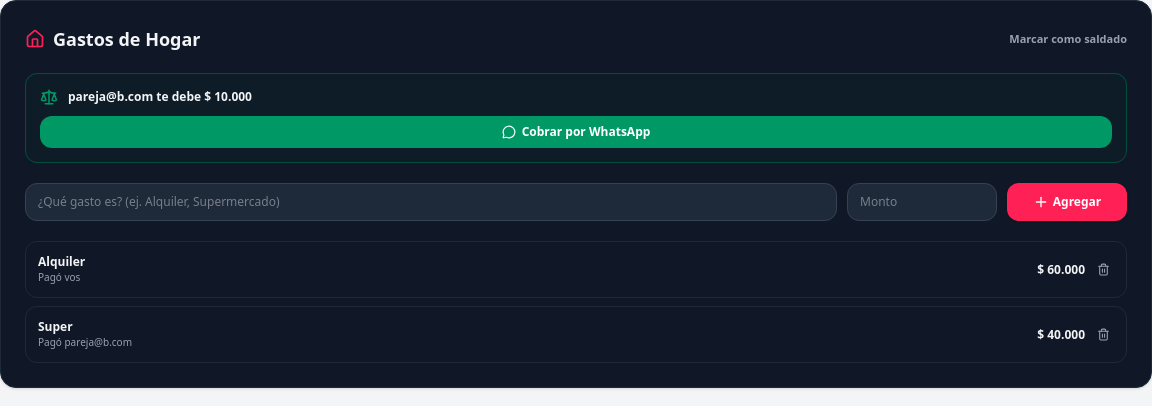
Test case: HouseholdExpenses › si el insert falla, muestra error y conserva lo escrito en el formulario
The image size is (1152, 406).
Check: the text "Alquiler" is shown, box [38, 253, 85, 270]
In the field with placeholder "¿Qué gasto es? (ej. Alquiler, Supermercado)": (431, 202) [25, 183, 837, 221], type "Expensas"
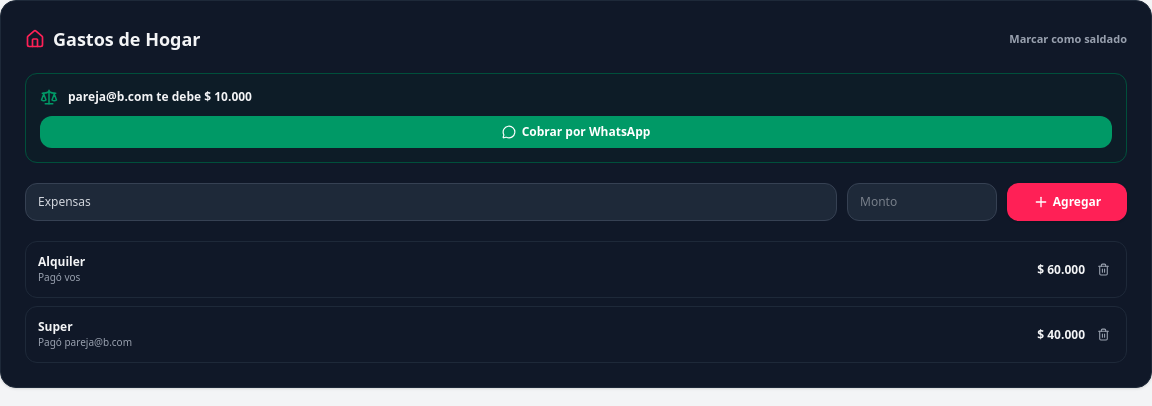
In the number field with placeholder "Monto": (922, 202) [847, 183, 997, 221], type "15000"
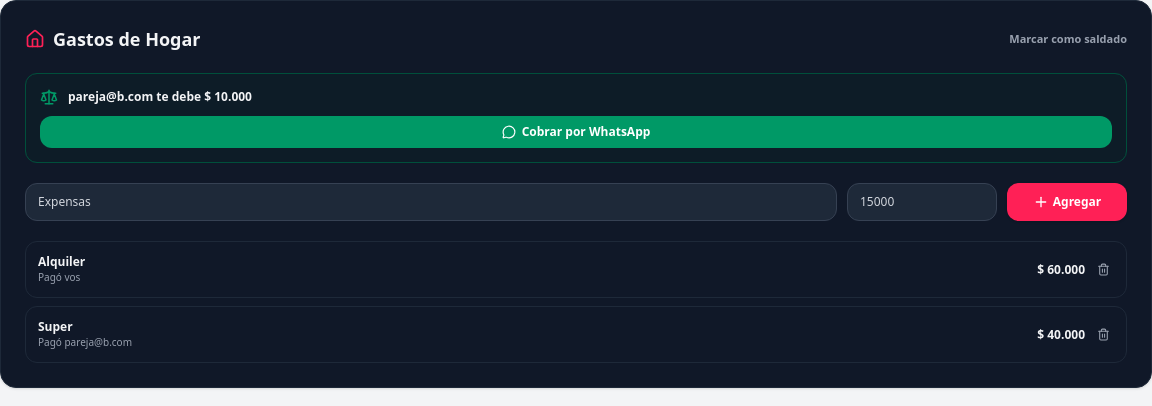
Click the button "Agregar": (1067, 202) [1007, 183, 1127, 221]
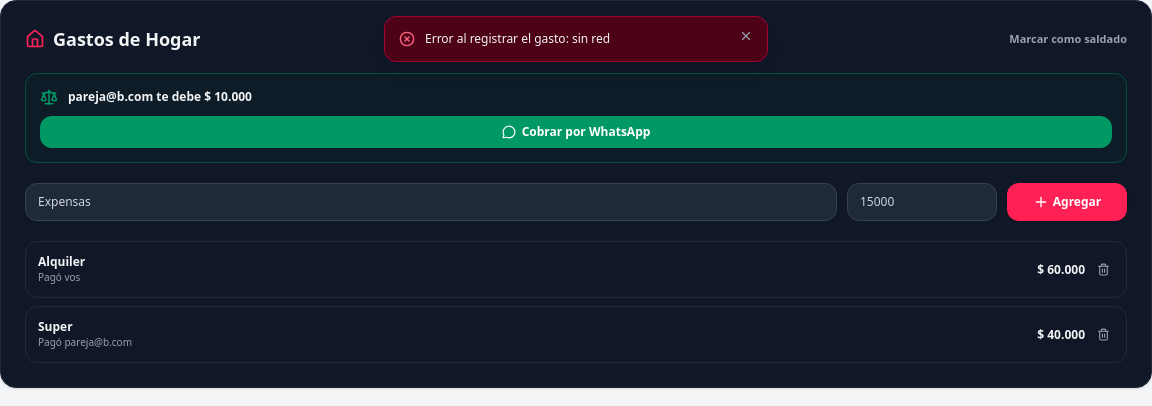
Check: the text "Error al registrar el gasto: sin red" is shown, box [425, 30, 610, 47]
